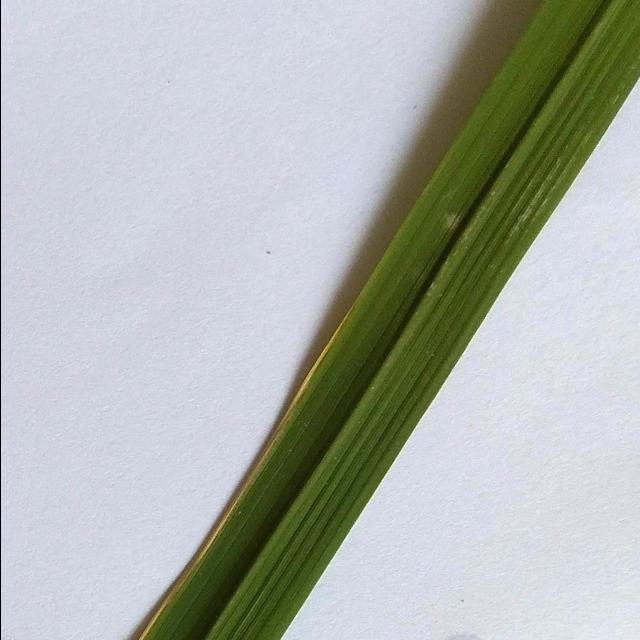healthy: (128, 0, 640, 640)
